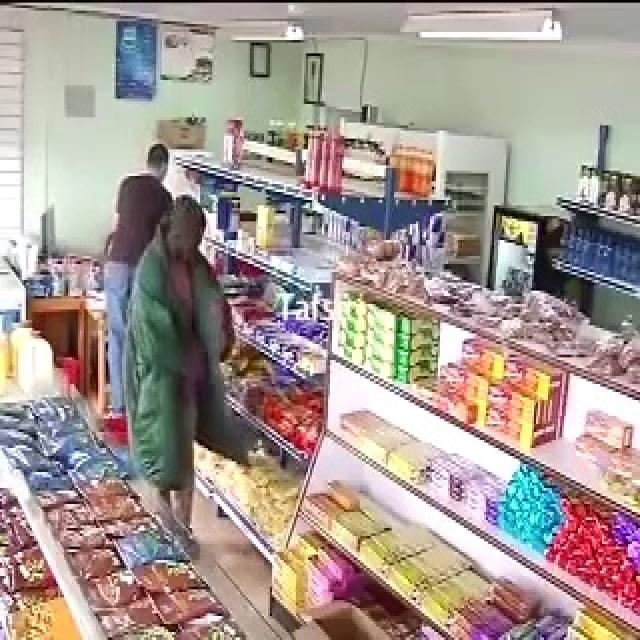normal: (115, 114, 178, 200)
shoplifting: (116, 175, 257, 500)
